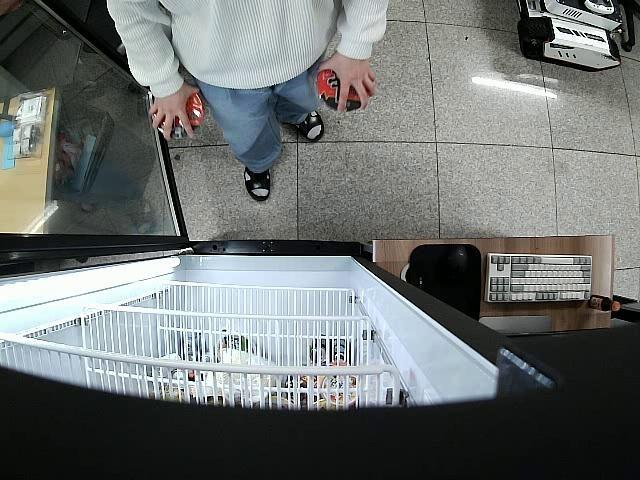01_ShinRamen_L: (317, 70, 370, 116), (154, 92, 204, 140)
